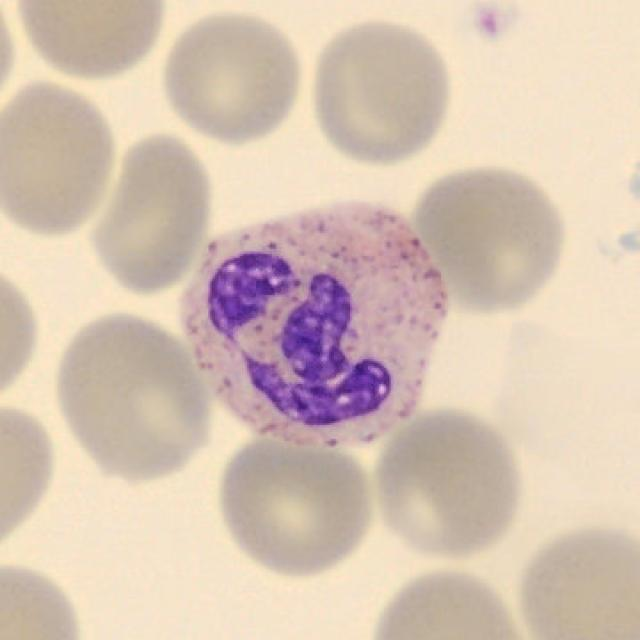Neutrofilo segmentado: (180, 203, 452, 452)
